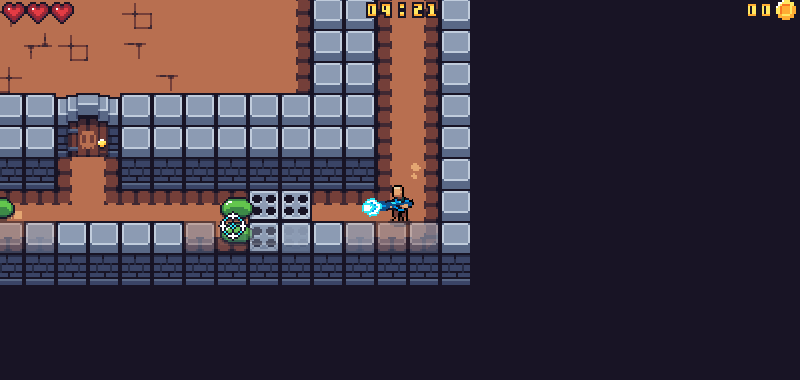door: (54, 91, 122, 158)
enemy_slug: (219, 196, 255, 219), (217, 222, 253, 241)
trap_off: (248, 189, 310, 253)
